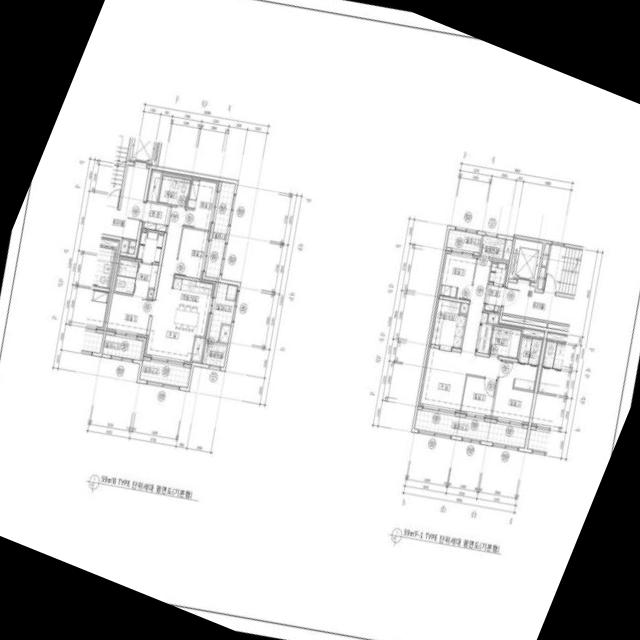background: (0, 0, 640, 640)
space_balconi: (413, 409, 527, 447), (204, 181, 234, 277), (207, 281, 237, 341), (139, 359, 190, 386), (102, 334, 143, 359), (446, 228, 482, 252)
space_bedroom: (491, 359, 533, 424), (106, 292, 152, 336), (437, 250, 476, 299), (183, 175, 218, 229), (175, 227, 209, 278), (460, 375, 496, 417)
space_elevator: (508, 238, 542, 282), (128, 137, 158, 165)
space_elevator_hall: (101, 164, 149, 239), (502, 281, 573, 324)
space_front: (142, 201, 170, 231), (483, 283, 504, 312)
space_kitchen: (165, 277, 215, 336), (428, 298, 466, 348)
space_living_room: (418, 255, 500, 412), (143, 206, 194, 364)
space_other: (501, 314, 546, 326), (488, 258, 508, 284), (146, 168, 161, 201), (476, 323, 492, 353), (191, 336, 205, 362), (522, 327, 544, 337), (502, 239, 512, 259), (547, 322, 569, 331), (219, 324, 230, 342), (541, 243, 549, 265), (537, 266, 545, 288), (487, 312, 499, 323), (120, 238, 128, 252), (127, 240, 135, 253), (460, 302, 468, 312), (147, 289, 153, 297)
space_outdoor_room: (202, 340, 227, 366), (480, 235, 504, 258)
space_staircase: (543, 244, 582, 294), (106, 134, 129, 206)
space_toilet: (114, 258, 157, 298), (513, 336, 541, 390), (489, 325, 521, 357), (158, 175, 190, 206), (135, 229, 163, 263)
